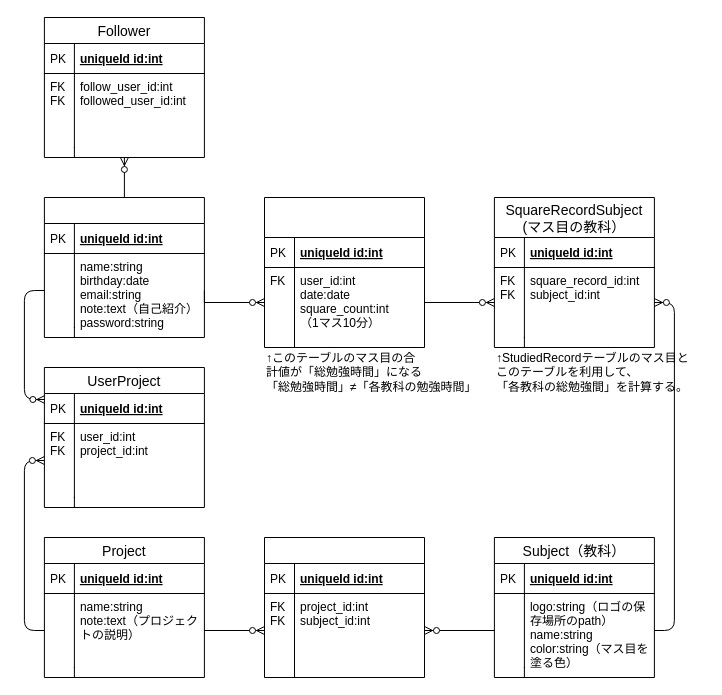
This 722x695 diagram has some shape labels left out. Each missing label, with the box of its shape:
ProjectSubject: (264, 536, 424, 678)
StudiedRecord（勉強し た日を記録する）: (264, 196, 424, 348)
User: (43, 196, 204, 338)
